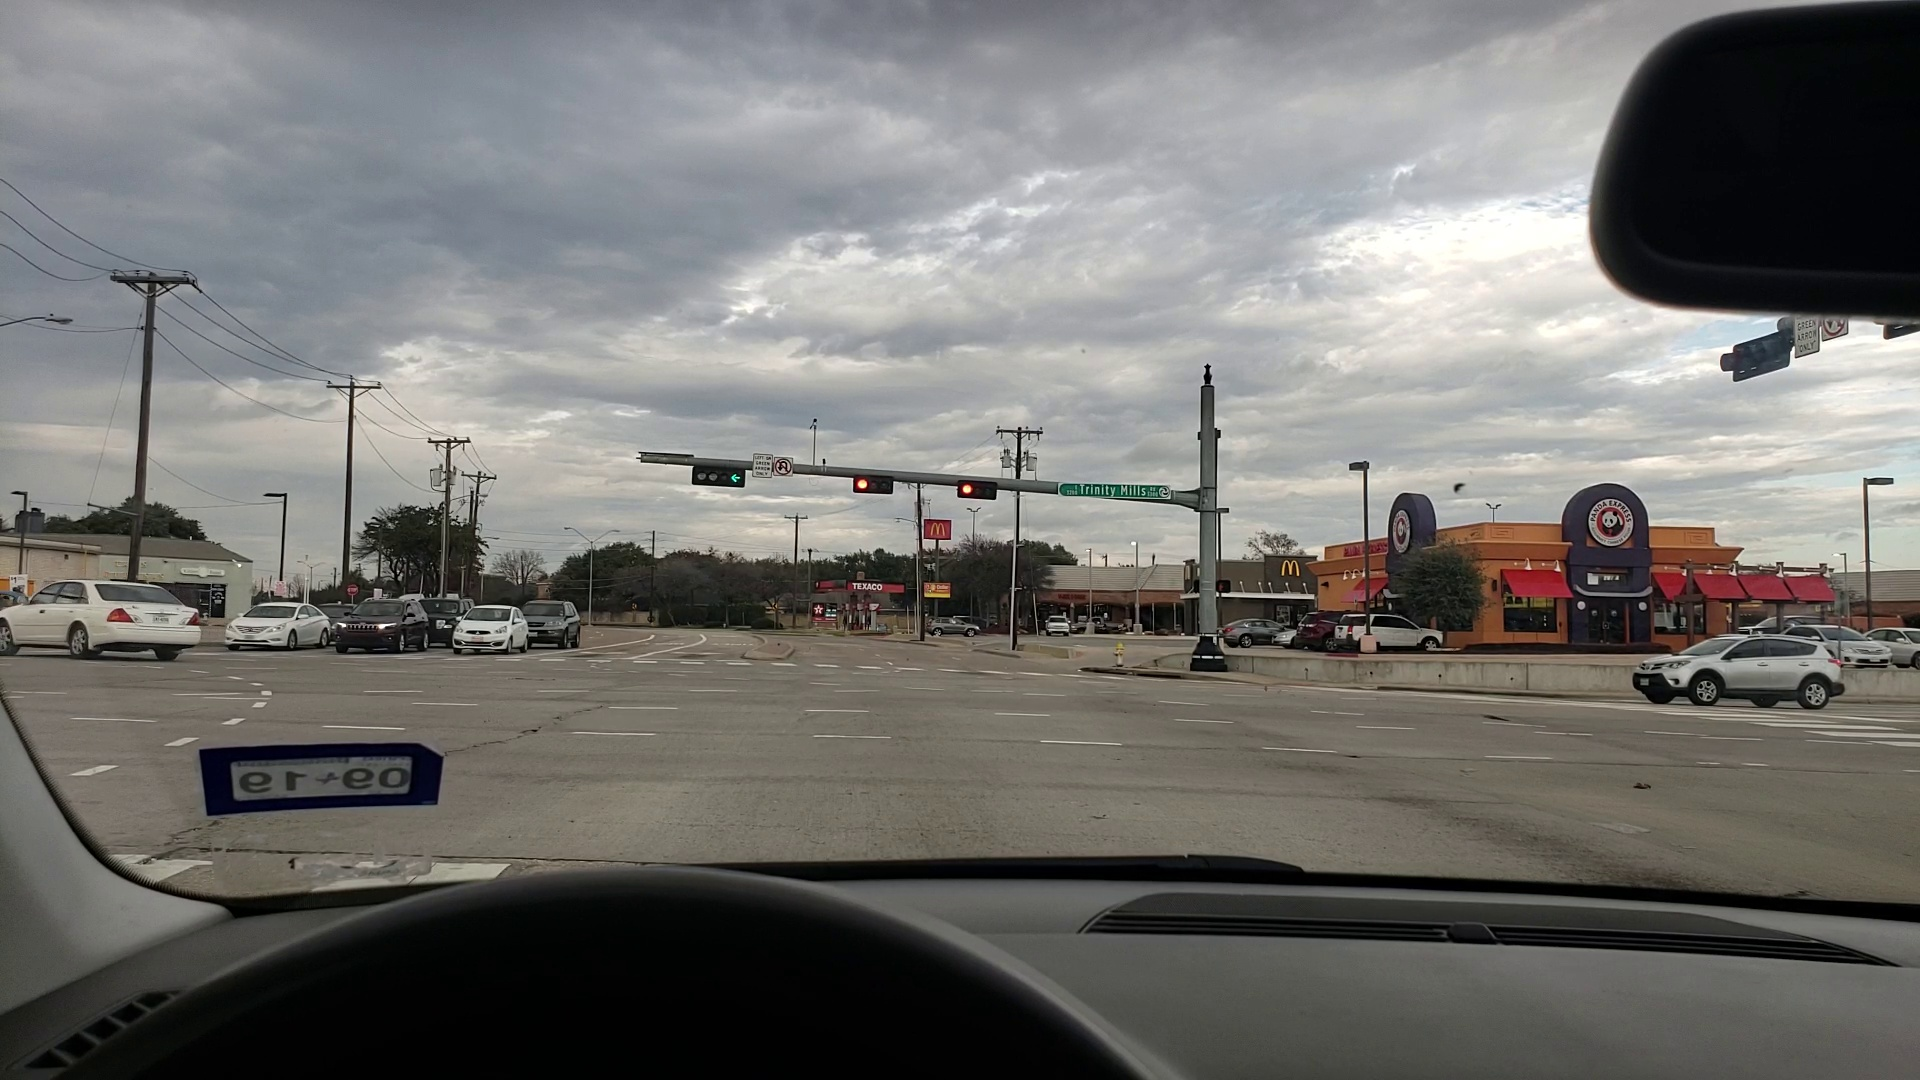car: (4, 571, 208, 666), (1636, 632, 1844, 711), (225, 597, 324, 647), (1336, 611, 1448, 653), (1785, 622, 1887, 669), (338, 604, 435, 647), (458, 604, 527, 657), (531, 600, 588, 646), (1865, 626, 1920, 662), (429, 597, 471, 644), (1300, 608, 1341, 651), (1222, 618, 1287, 645), (927, 620, 975, 640), (1042, 615, 1072, 636), (1273, 630, 1298, 647)
traffic light: (1724, 342, 1792, 377), (690, 465, 746, 487), (851, 473, 894, 495), (955, 483, 1000, 498)
